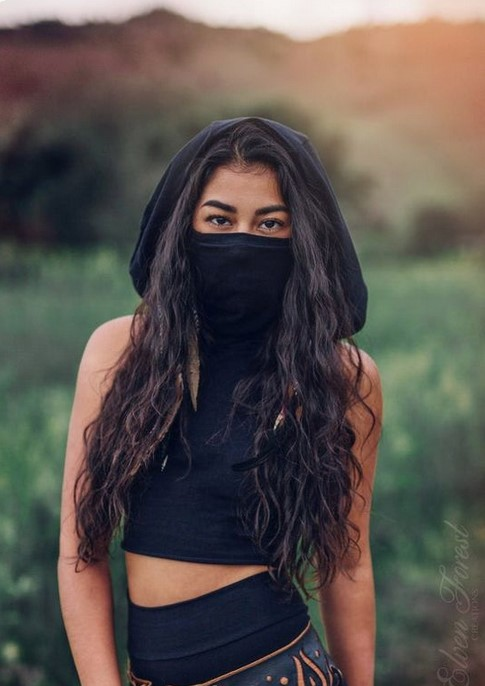face_with_mask: (153, 121, 314, 332)
